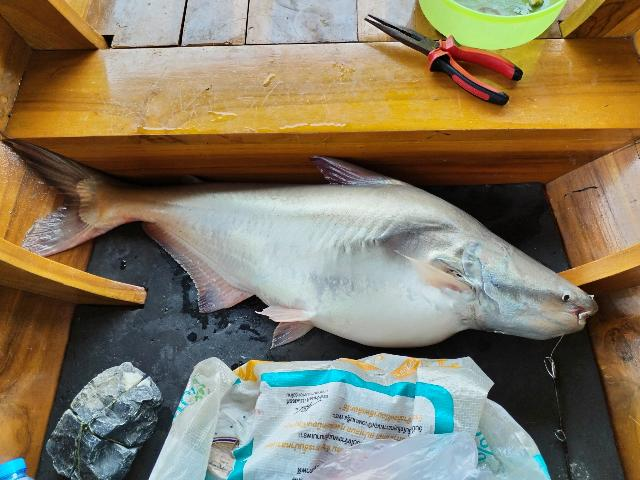Mulut: (564, 283, 608, 342)
Sirip Anal: (136, 211, 250, 321)
Sirip Dada: (394, 244, 480, 301)
Sirip Ekor: (9, 132, 102, 274)
Sirip Perut: (258, 297, 322, 352)
Sirip Punggung: (306, 145, 406, 196)
